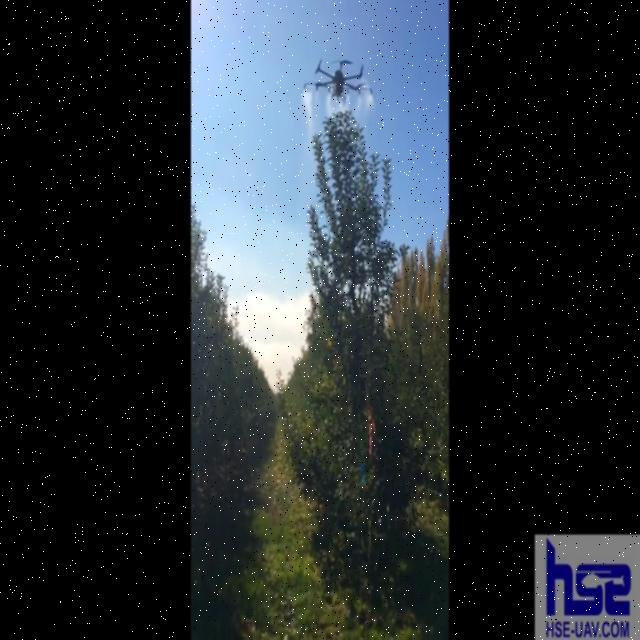UAV: (304, 53, 374, 111)
